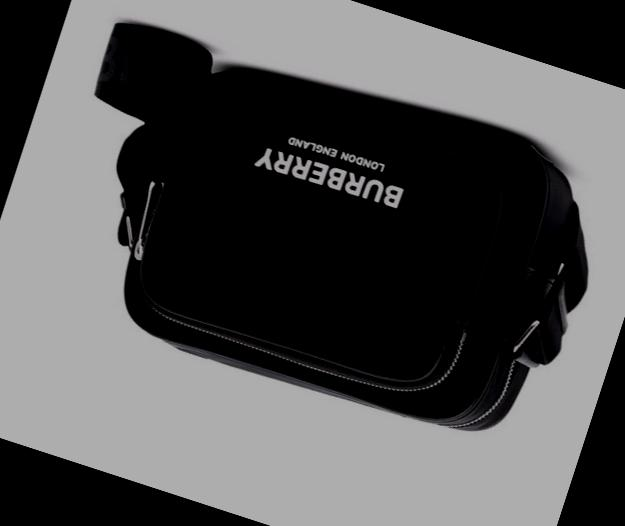BURBERRY: (252, 142, 402, 210)
